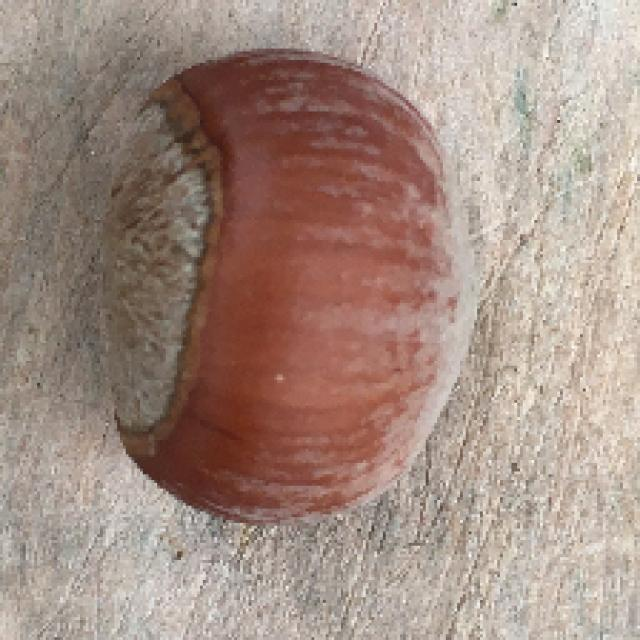qualityHazelnut: (102, 44, 481, 531)
